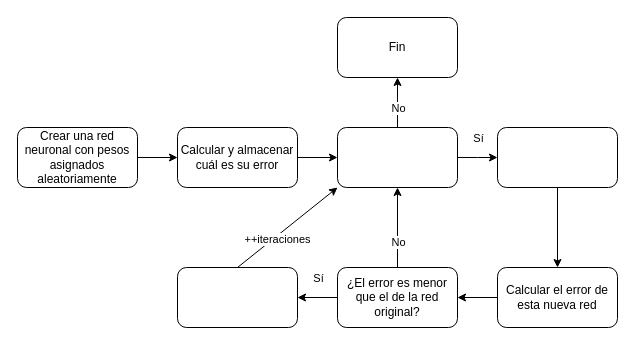
Image size: 635x345. Some labels were removed from this diagram. The shapes that lost their labels are listed below. From the top down, each one's centre as x and y in pixels, then its label:
At pixel 397 157: "¿iteraciones < n ?".
At pixel 557 157: "Crear otra red neuronal con pesos aleatorios".
At pixel 237 297: "Asignar los pesos a la red original, y guardar el mejor error hasta el momento".
